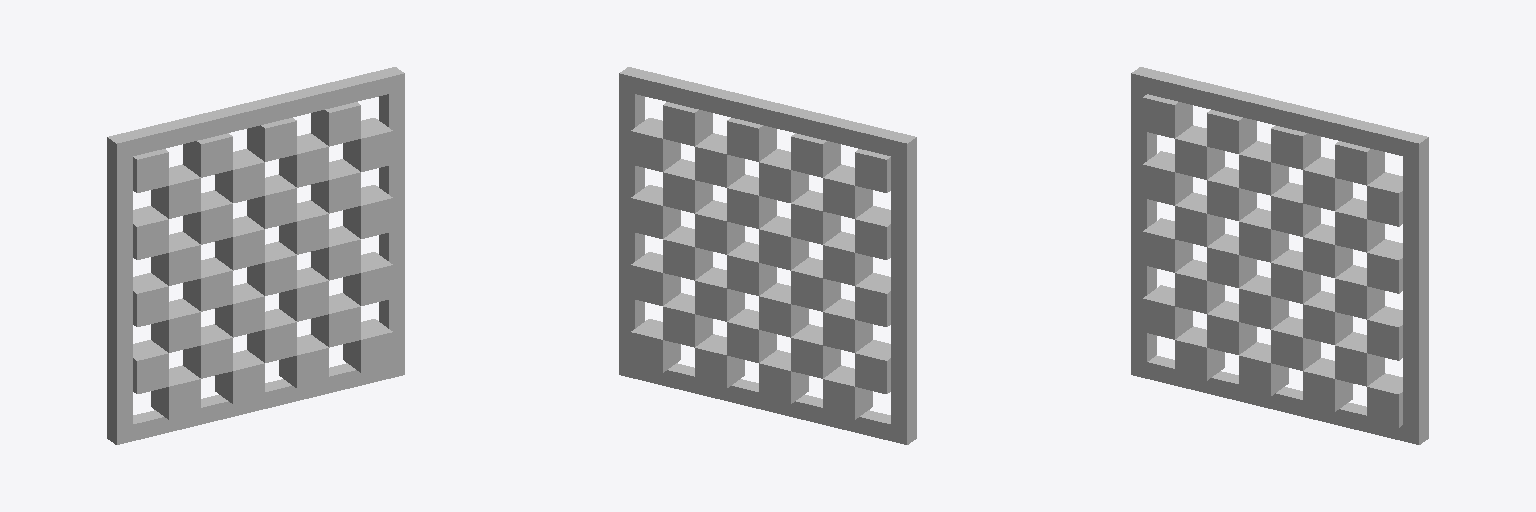
The model's file is board_2.obj.
3 views of the same model, side by side, from view 1: azimuth 30°, elevation 25°; view 2: azimuth 150°, elevation 25°; view 3: azimuth 330°, elevation 25° (orthographic).
Bounding box in the file's own units: 18 × 18 × 2.